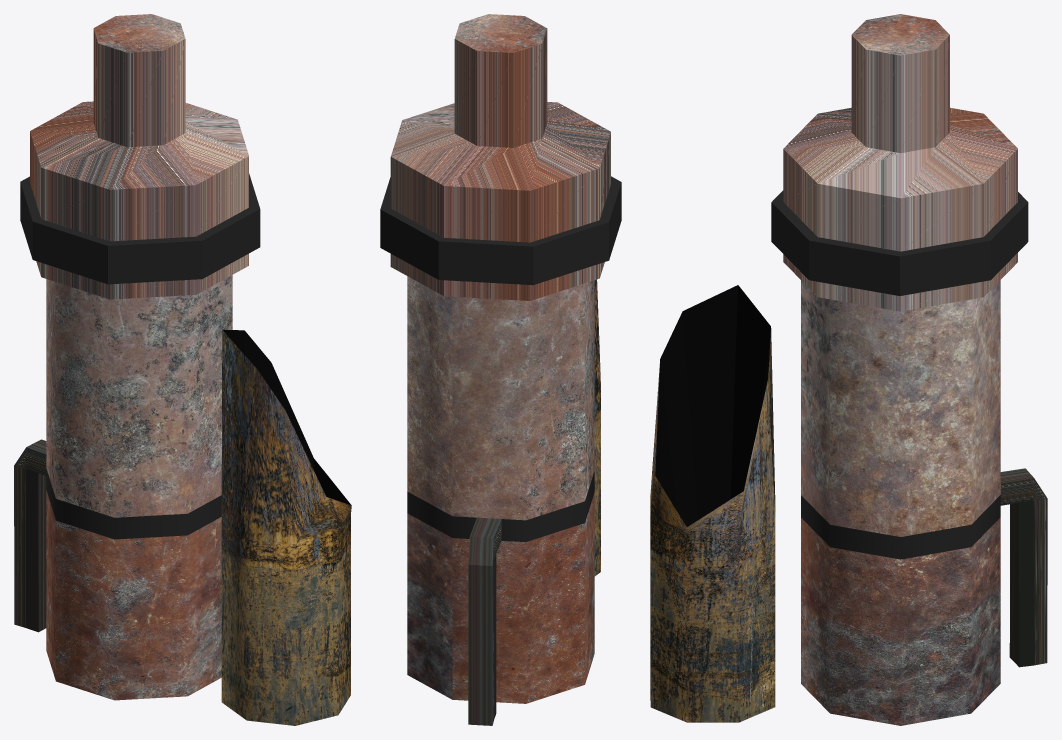
3 views of the same model, side by side, from view 1: azimuth 30°, elevation 25°; view 2: azimuth 150°, elevation 25°; view 3: azimuth 270°, elevation 25° (orthographic). The views are drawn at different scales.
Visible parts, largest first — view 1: Cylinder001, Cylinder002; view 2: Cylinder001, Cylinder002; view 3: Cylinder001, Cylinder002.
Boxes of the visible parts, <box> form: Cylinder001: <box>14,14,260,700</box>; Cylinder002: <box>221,329,351,725</box>; Cylinder001: <box>380,14,621,725</box>; Cylinder002: <box>594,279,600,576</box>; Cylinder001: <box>771,14,1047,725</box>; Cylinder002: <box>650,285,775,722</box>.
Bounding box in the file's own units: 9.31 × 25.82 × 14.32.
5 materials, 3 textured.
